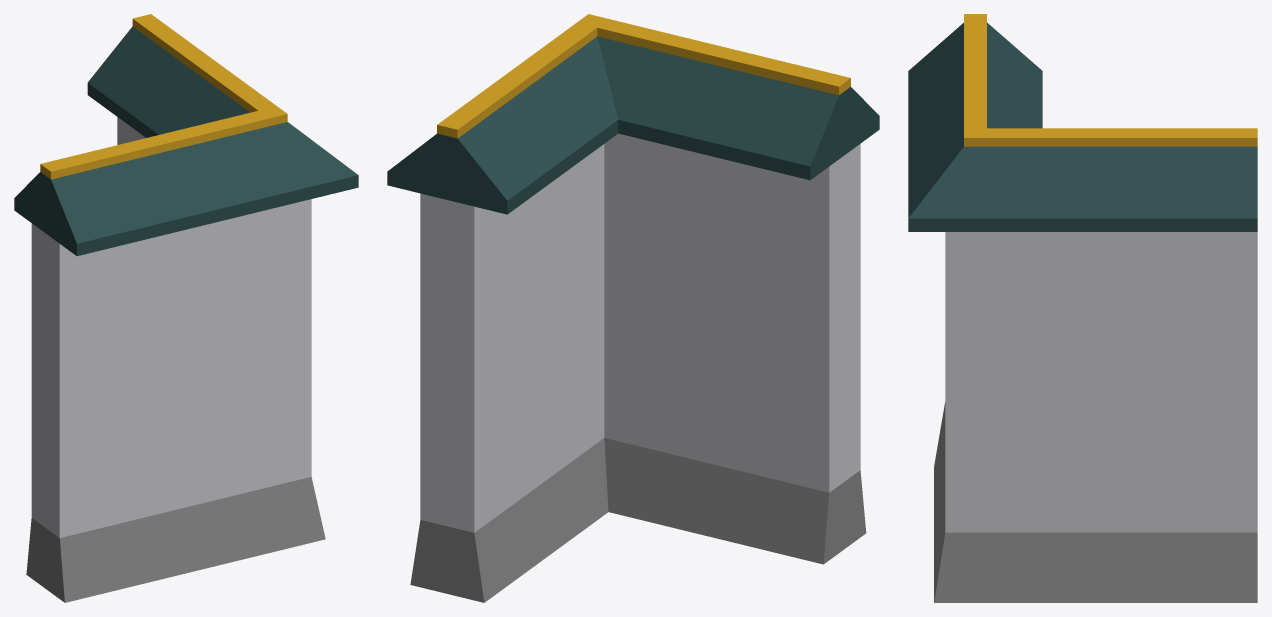
The model's file is Asian_Prop_Building_Fence_Wall_Simple_Corner_03.FBX.
3 renders of one model, left to right at view 1: azimuth 30°, elevation 25°; view 2: azimuth 150°, elevation 25°; view 3: azimuth 270°, elevation 25°, orthographic. The views are drawn at different scales.
Parts seen in each view (by area): view 1: Asian_Prop_Building_Fence_Wall_Simple_Corner_03; view 2: Asian_Prop_Building_Fence_Wall_Simple_Corner_03; view 3: Asian_Prop_Building_Fence_Wall_Simple_Corner_03.
Part boxes in pixels (x1,y1,x2,y2): Asian_Prop_Building_Fence_Wall_Simple_Corner_03: (14,14,358,602); Asian_Prop_Building_Fence_Wall_Simple_Corner_03: (387,14,879,602); Asian_Prop_Building_Fence_Wall_Simple_Corner_03: (908,14,1257,602).
Size of the model in its own units: 2890 by 4128 by 2890.
